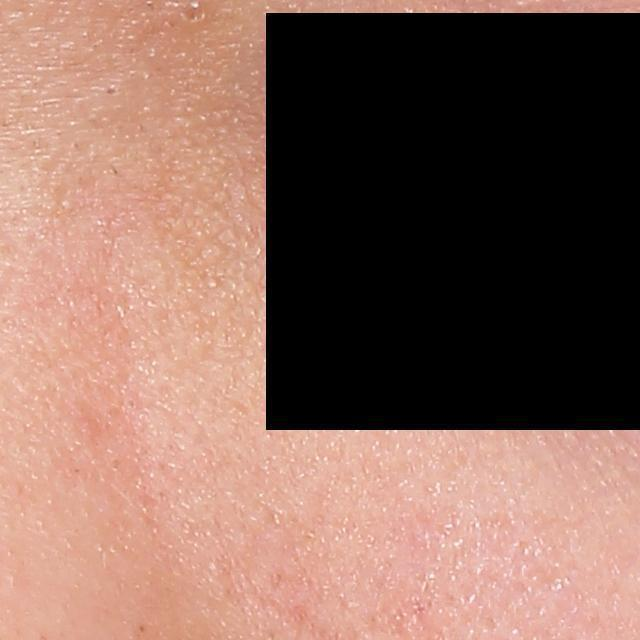comedo: (101, 84, 120, 98)
